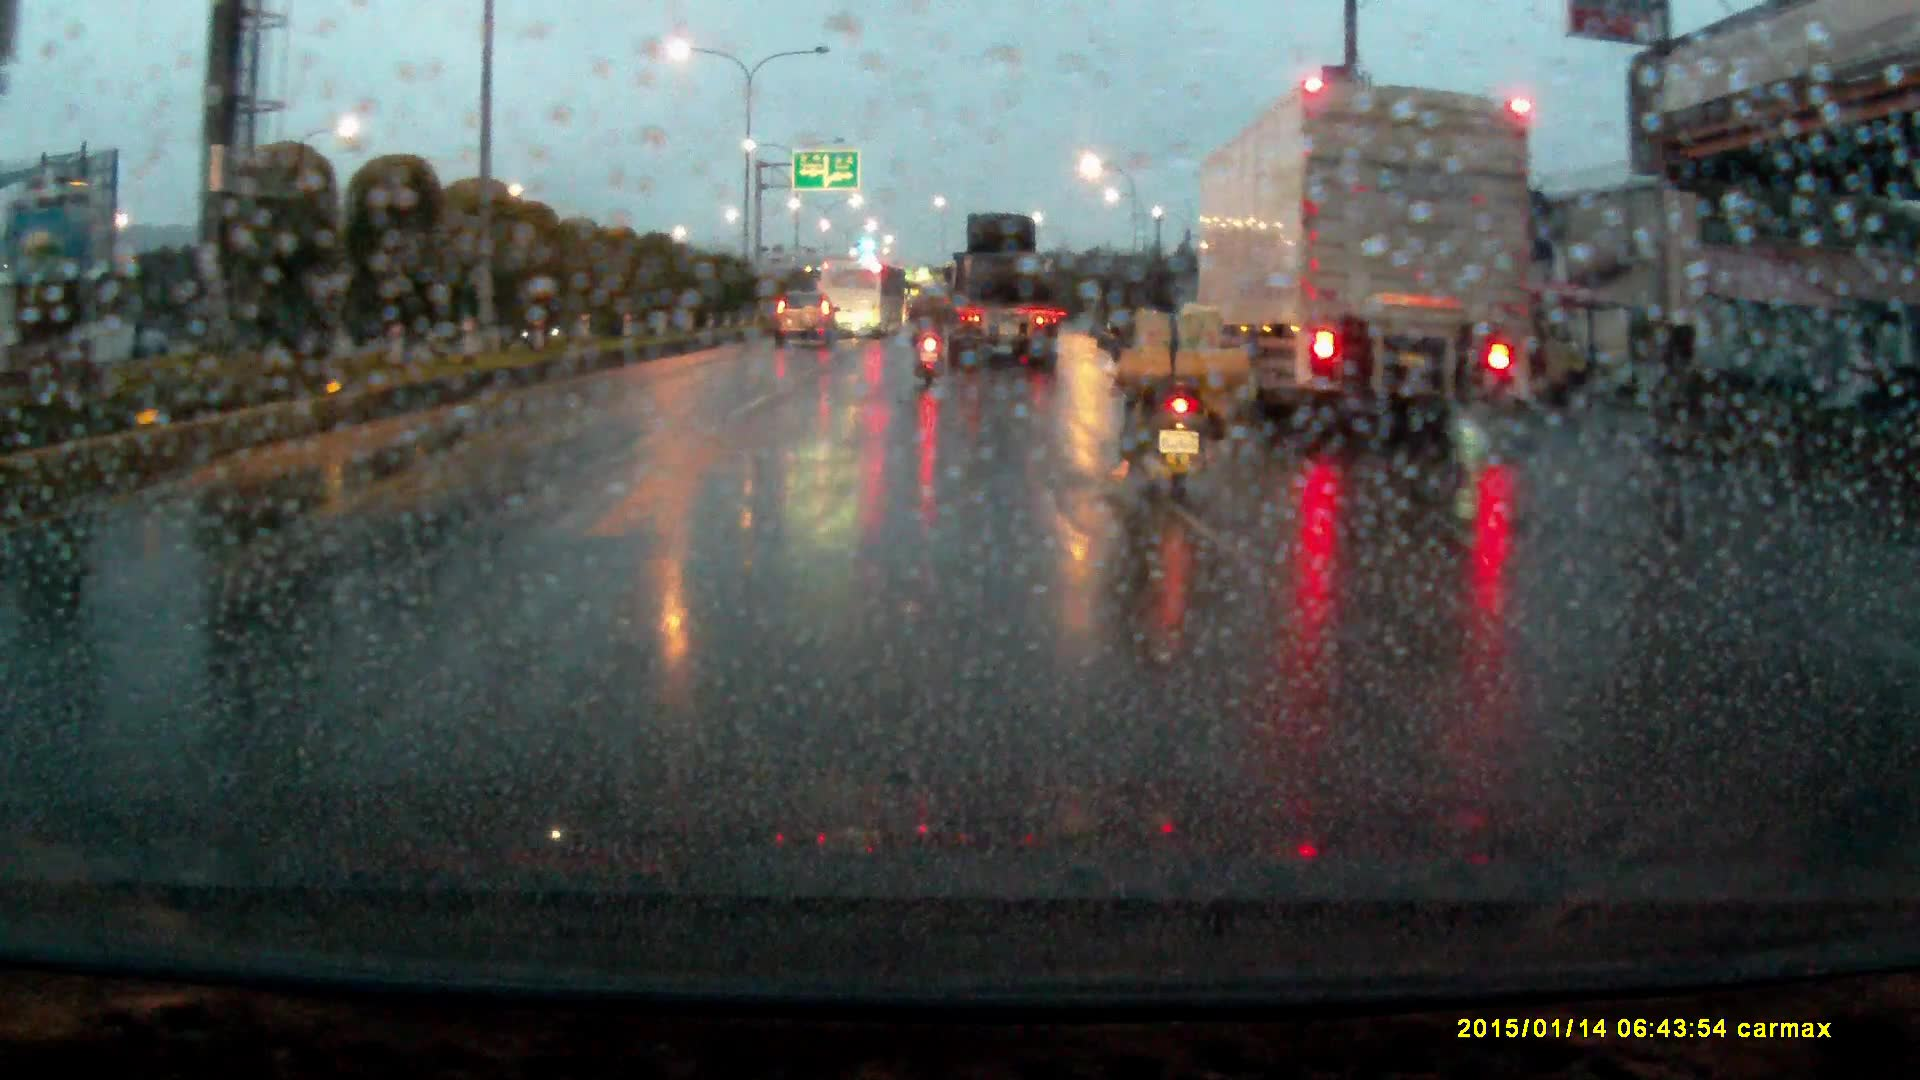rider: (1109, 253, 1243, 521), (912, 285, 953, 387)
vehicle: (1185, 75, 1540, 438), (938, 214, 1061, 372), (819, 260, 887, 338), (773, 294, 842, 355)
